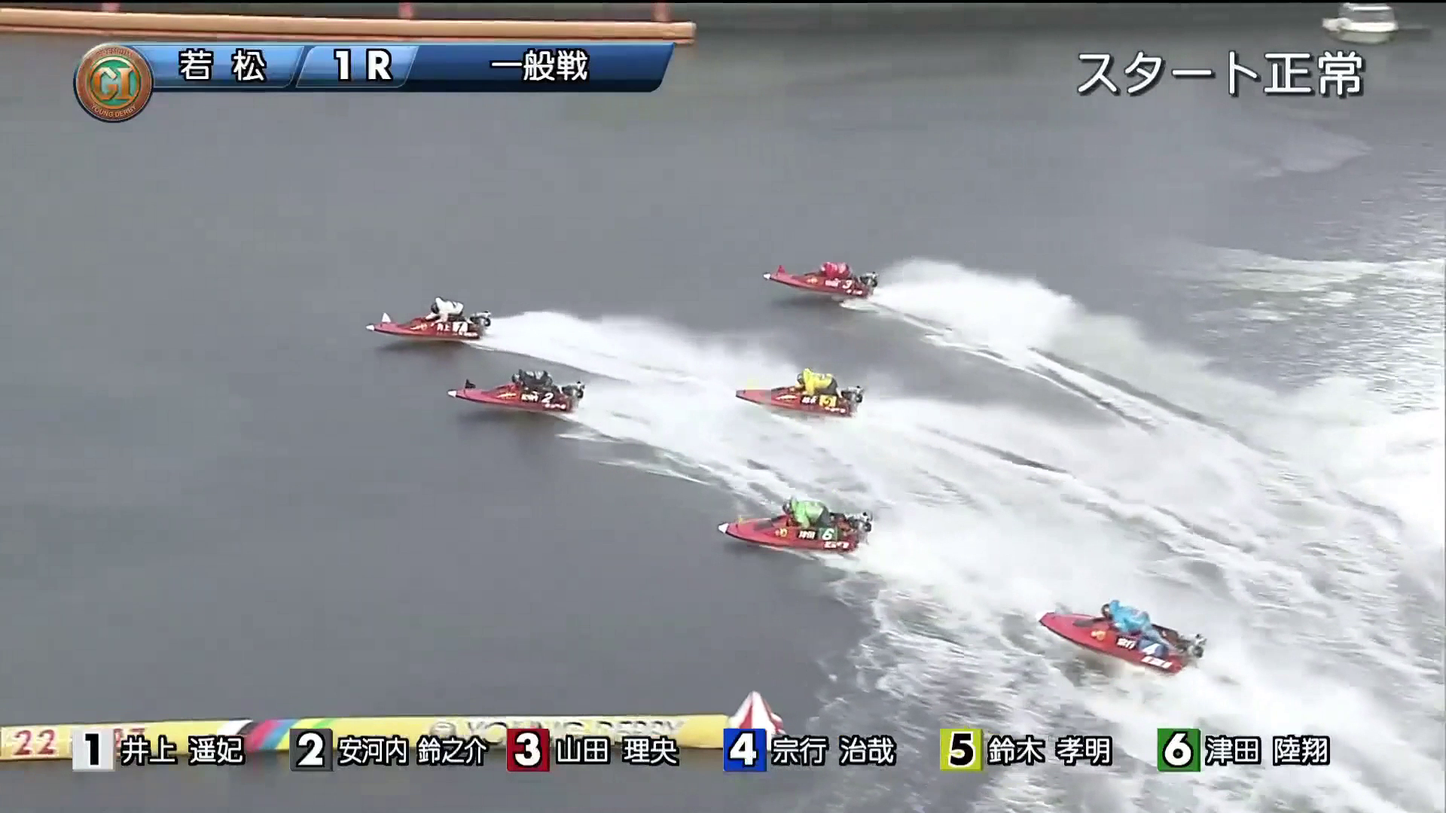１号艇: (371, 271, 442, 325)
２号艇: (425, 370, 554, 431)
３号艇: (783, 250, 881, 310)
４号艇: (746, 490, 880, 556)
５号艇: (1069, 606, 1193, 661)
６号艇: (741, 357, 841, 437)
